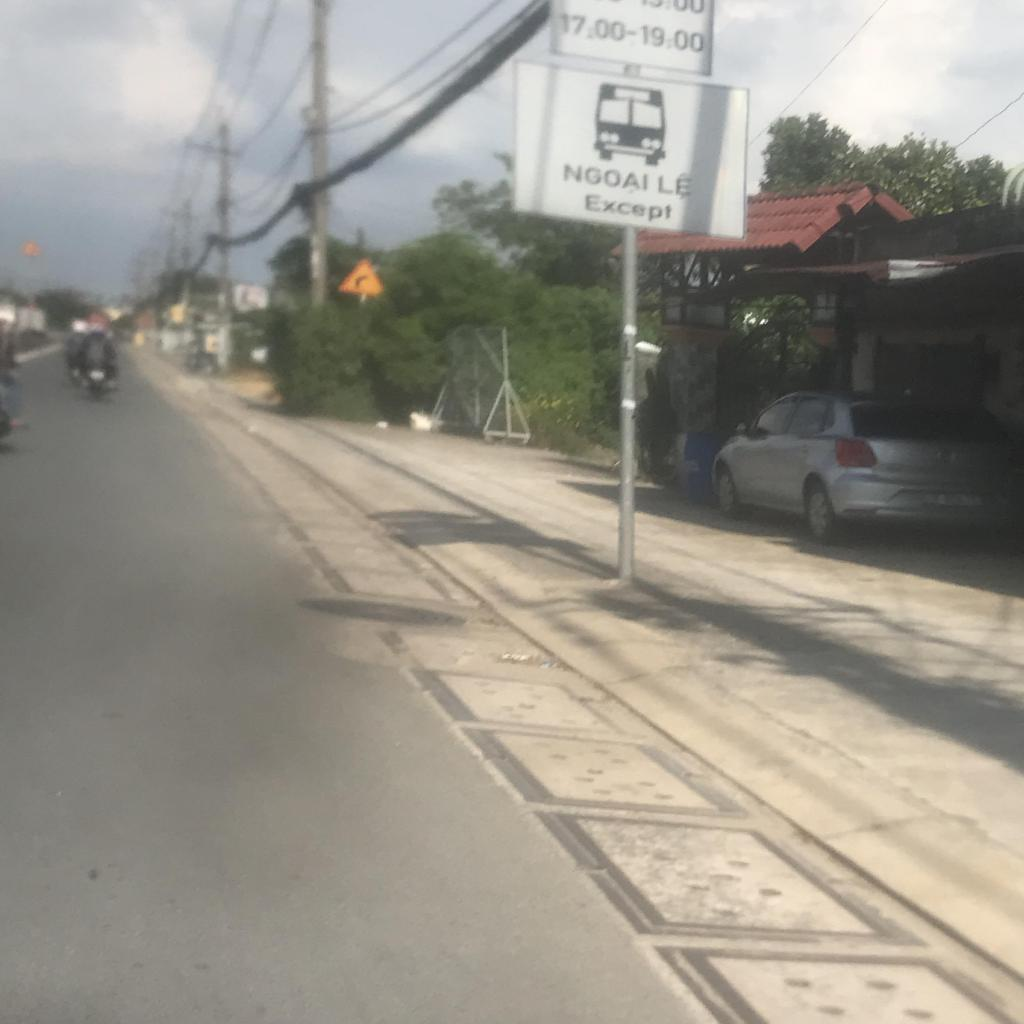cho_ngoat_nguy_hiem_ben_phai: (336, 258, 383, 295)
khac: (512, 64, 750, 240), (549, 0, 715, 76)
